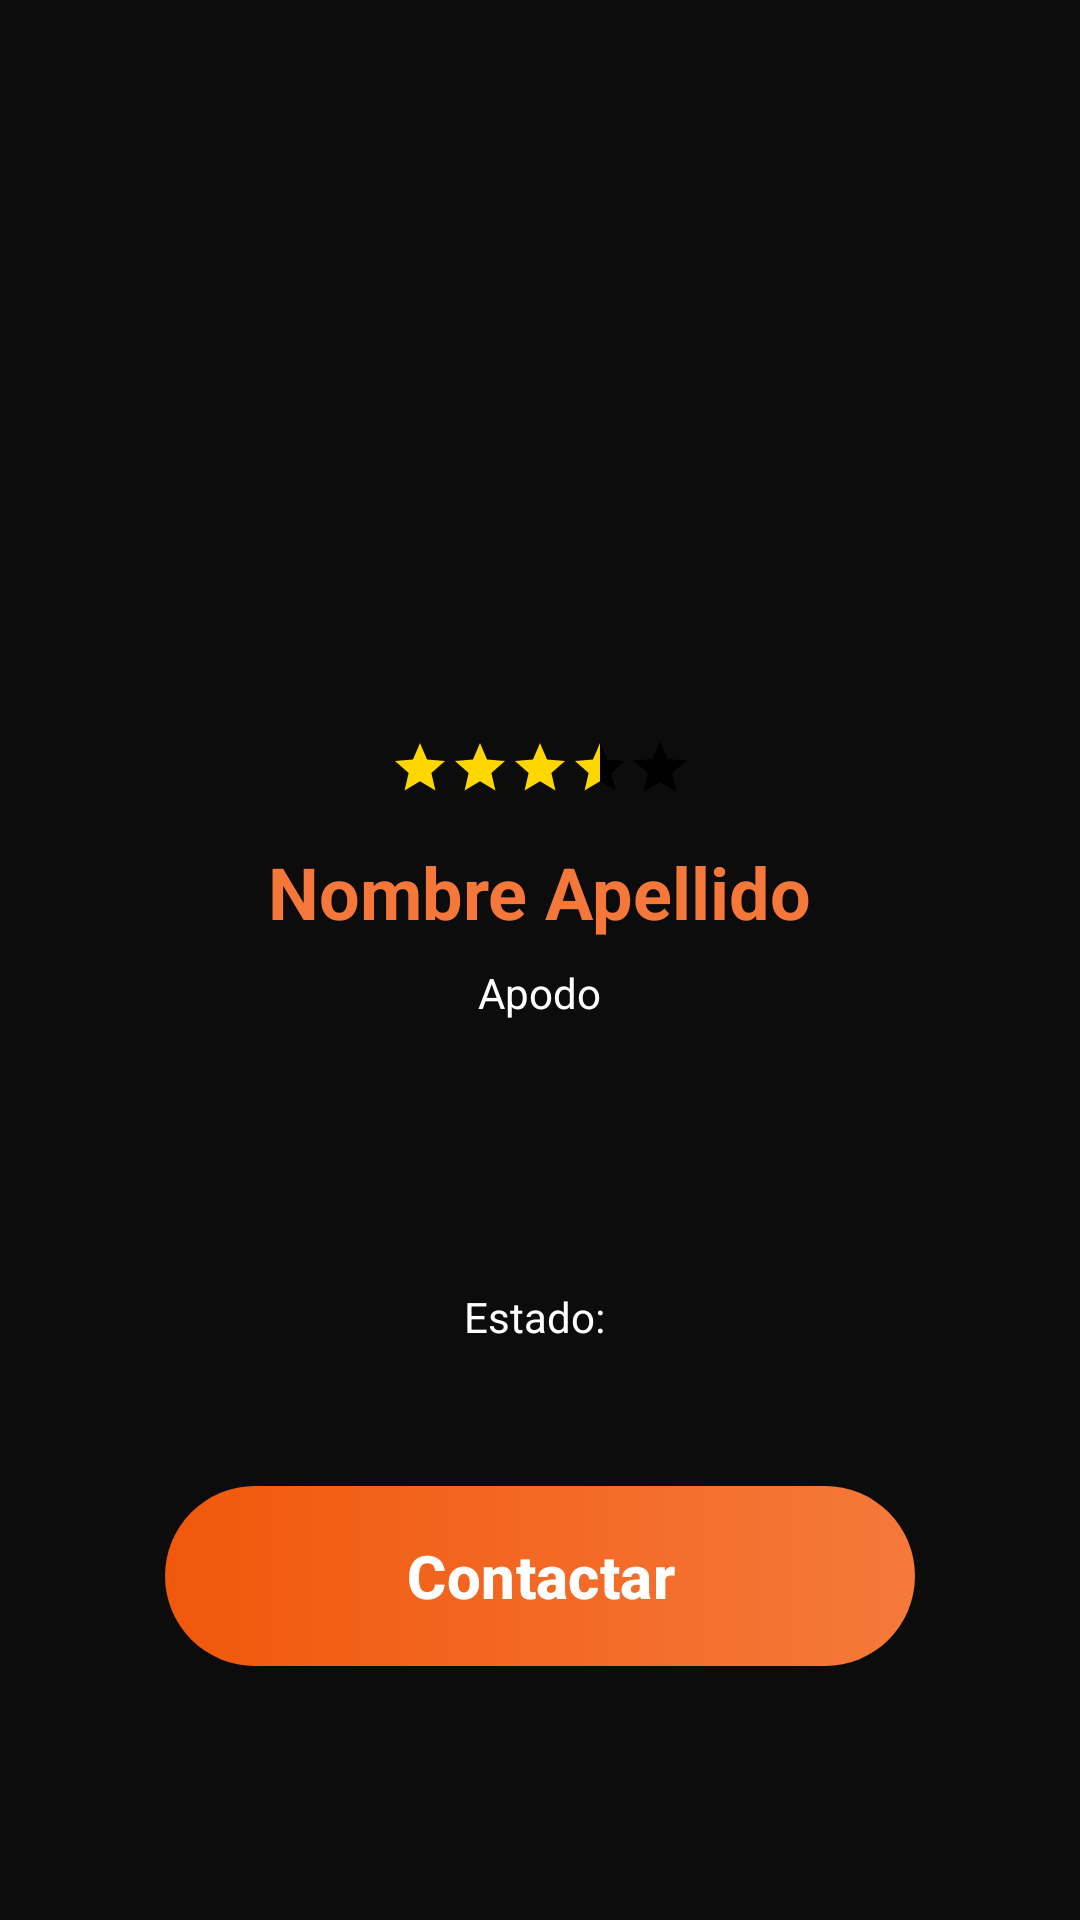

Screen size 1080w x 1920h. Icon name, then its center in pixels as (x=x, y=y):
star: (x=420, y=767), (x=480, y=767), (x=540, y=767)
star half: (x=587, y=767)
